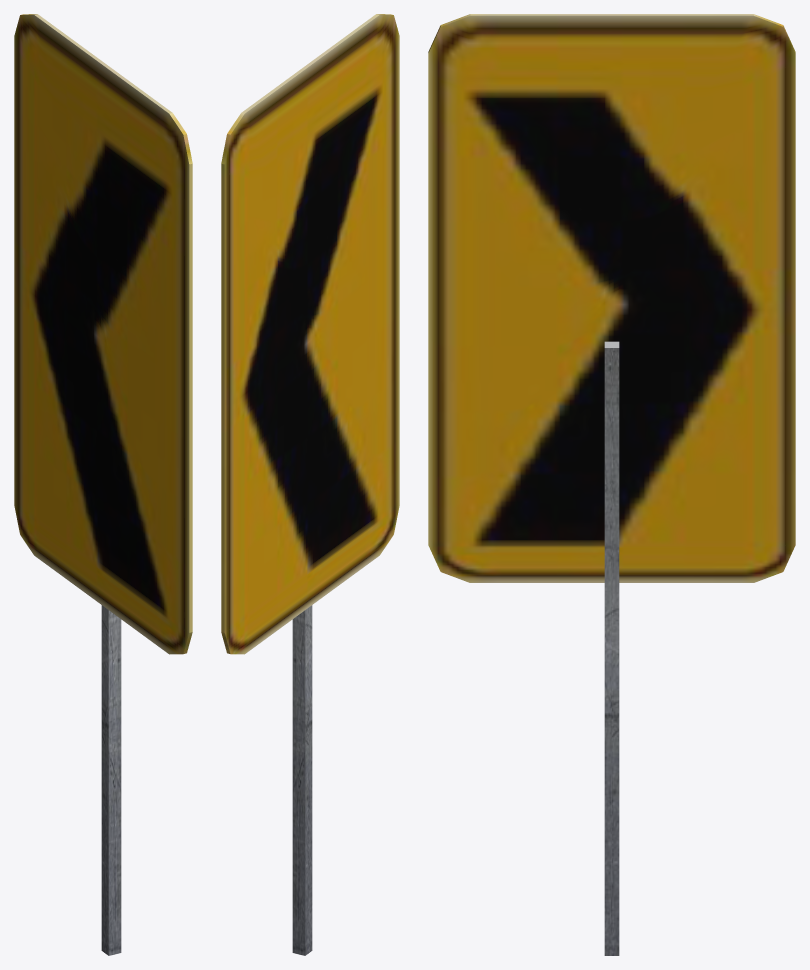
File: sign-keepgoing-left.fbx
3 renders of one model, left to right at view 1: azimuth 30°, elevation 25°; view 2: azimuth 150°, elevation 25°; view 3: azimuth 270°, elevation 25°, orthographic. The views are drawn at different scales.
Parts seen in each view (by area): view 1: Plane.056; view 2: Plane.056; view 3: Plane.056.
Part boxes in pixels (x1,y1,x2,y2): Plane.056: (14,14,192,955); Plane.056: (221,14,399,955); Plane.056: (428,14,795,955).
Size of the model in its own units: 8.77 by 463 by 165.
